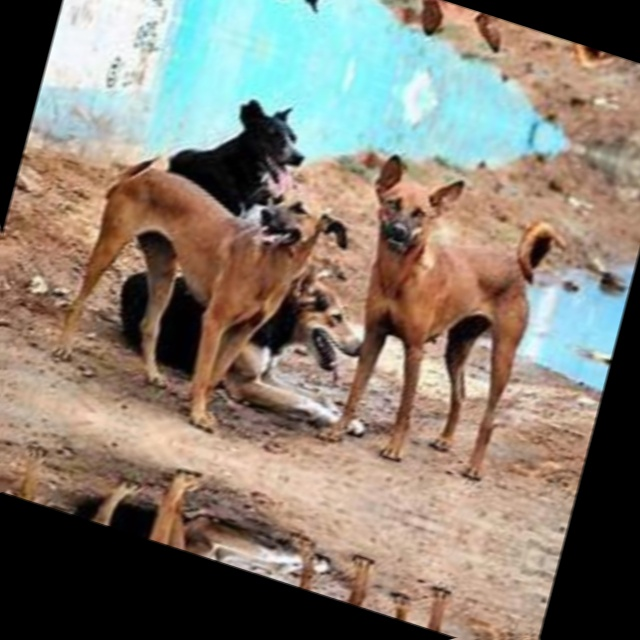dog: (316, 160, 555, 477), (274, 548, 454, 637), (418, 0, 597, 80)
